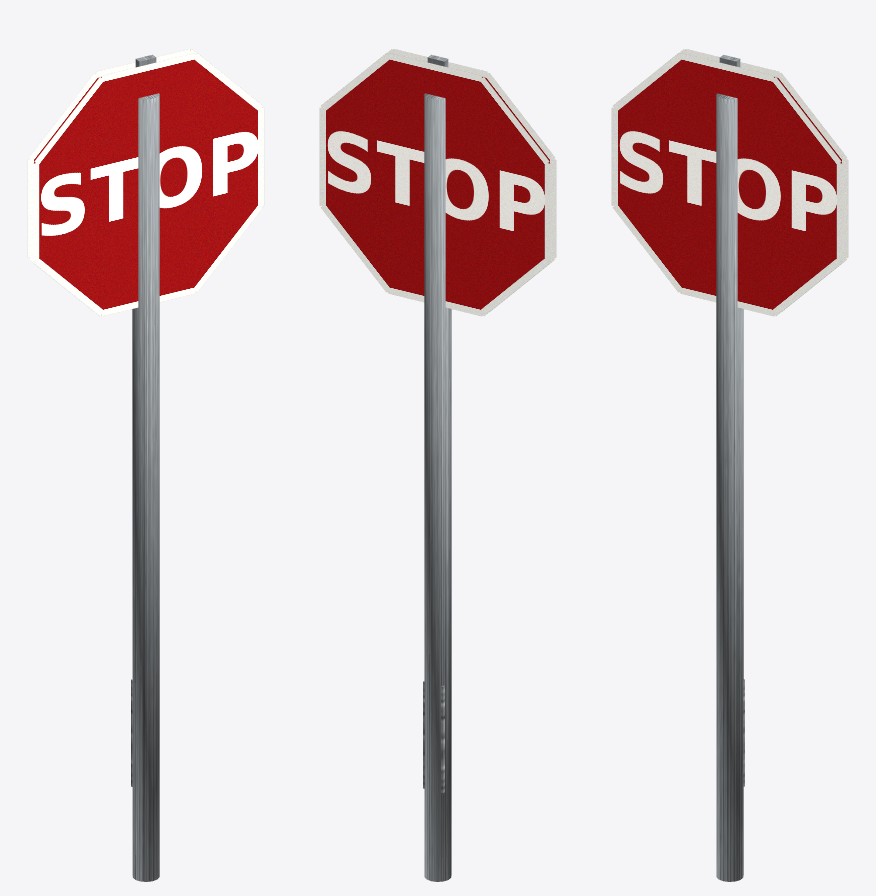
The model's file is WK_SGN_StopSign.glb.
3 views of the same model, side by side, from view 1: azimuth 30°, elevation 25°; view 2: azimuth 150°, elevation 25°; view 3: azimuth 330°, elevation 25° (orthographic).
Visible parts, largest first — view 1: WK_SGN_StopSign_P03, WK_SGN_StopSign_P01, WK_SGN_StopSign_P04; view 2: WK_SGN_StopSign_P04, WK_SGN_StopSign_P01, WK_SGN_StopSign_P03, WK_SGN_StopSign_P02; view 3: WK_SGN_StopSign_P03, WK_SGN_StopSign_P01, WK_SGN_StopSign_P04.
Boxes of the visible parts, <box> form: WK_SGN_StopSign_P03: <box>33,53,264,316</box>; WK_SGN_StopSign_P01: <box>132,93,159,881</box>; WK_SGN_StopSign_P04: <box>27,49,196,311</box>; WK_SGN_StopSign_P04: <box>319,53,550,316</box>; WK_SGN_StopSign_P01: <box>424,93,451,881</box>; WK_SGN_StopSign_P03: <box>387,49,556,311</box>; WK_SGN_StopSign_P02: <box>423,681,444,793</box>; WK_SGN_StopSign_P03: <box>611,53,842,316</box>; WK_SGN_StopSign_P01: <box>716,93,743,881</box>; WK_SGN_StopSign_P04: <box>679,49,848,311</box>.
Bounding box in the file's own units: 0.76 × 2.33 × 0.07.
Materials: 2 (2 with a texture image).
